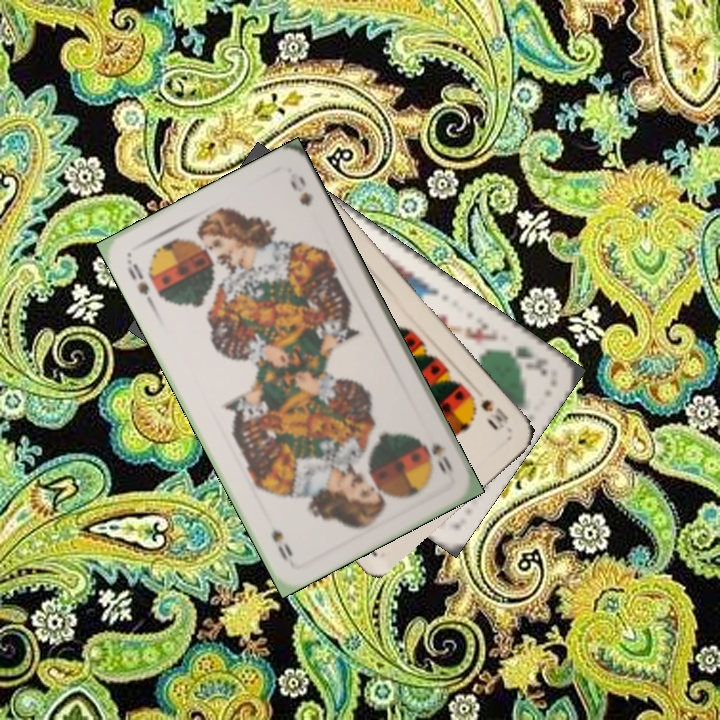GK: (497, 341, 551, 378)
S10: (465, 389, 512, 432)
SO: (123, 255, 157, 310), (427, 439, 456, 480)
